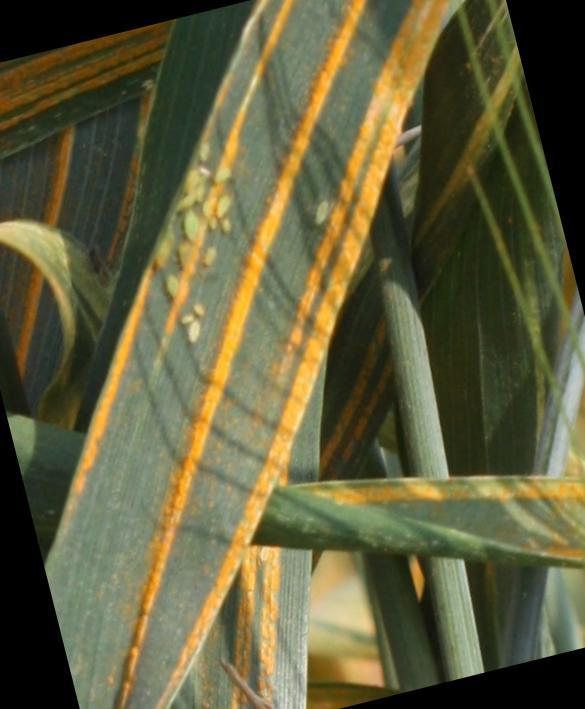Wheat: (180, 18, 438, 665), (125, 8, 374, 642), (7, 23, 154, 155), (13, 142, 90, 381)
